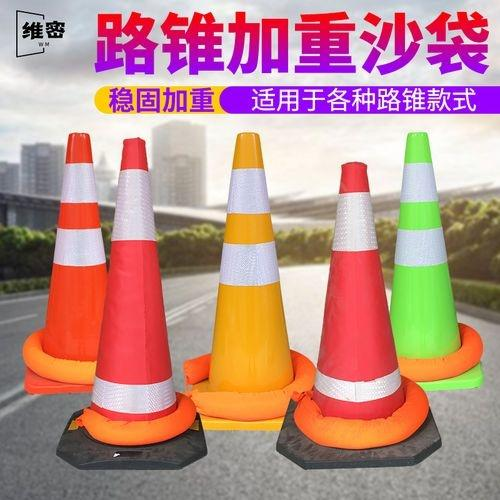cone_barrel: (81, 146, 191, 448), (195, 138, 304, 411), (305, 166, 412, 434), (385, 135, 470, 383), (28, 140, 114, 385)
